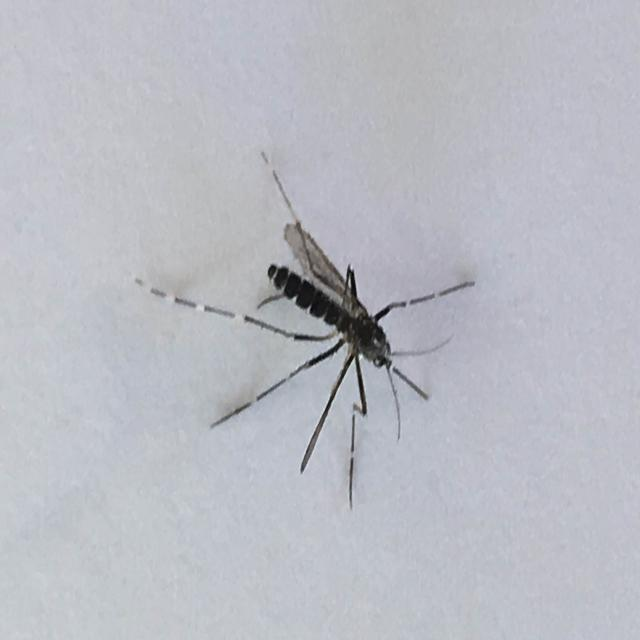albopictus: (134, 142, 481, 504)
